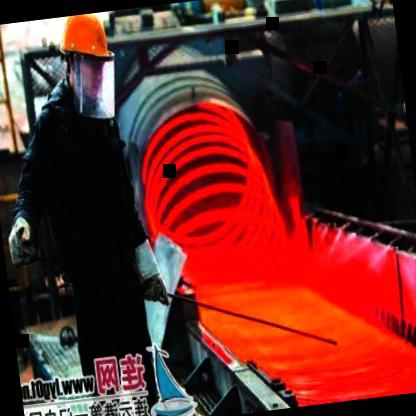helmet: (52, 11, 121, 116)
